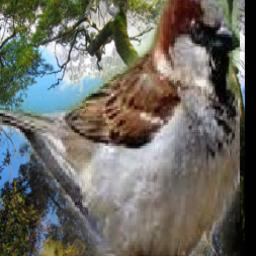Sparrow: (0, 0, 241, 256)
